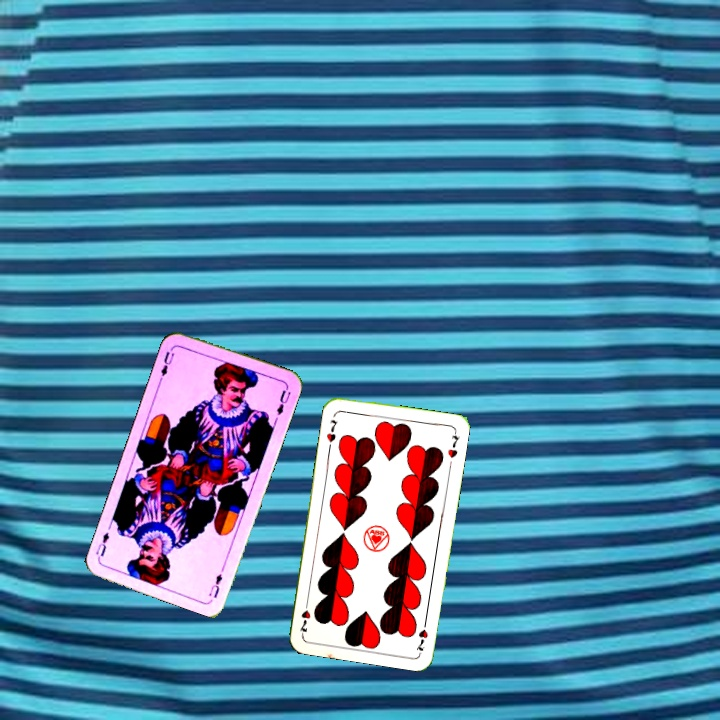EU: (156, 347, 177, 383), (205, 570, 225, 601)
H7: (412, 615, 430, 653), (322, 415, 340, 445)
